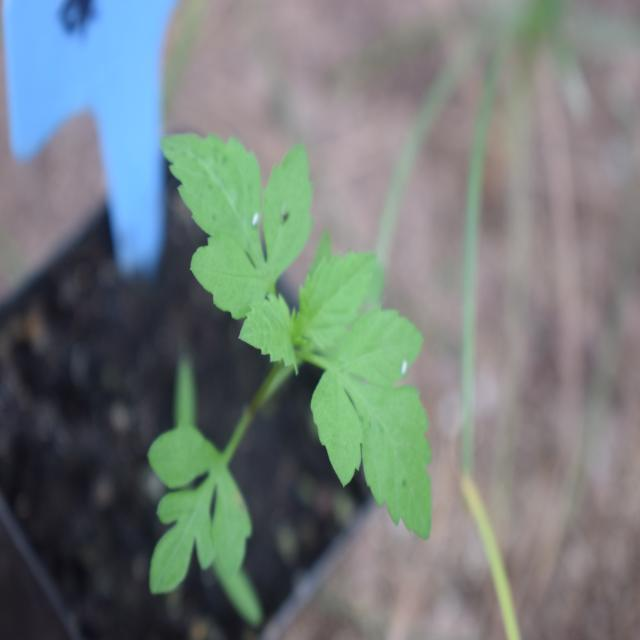Bidens pilosa: (124, 110, 441, 616)
